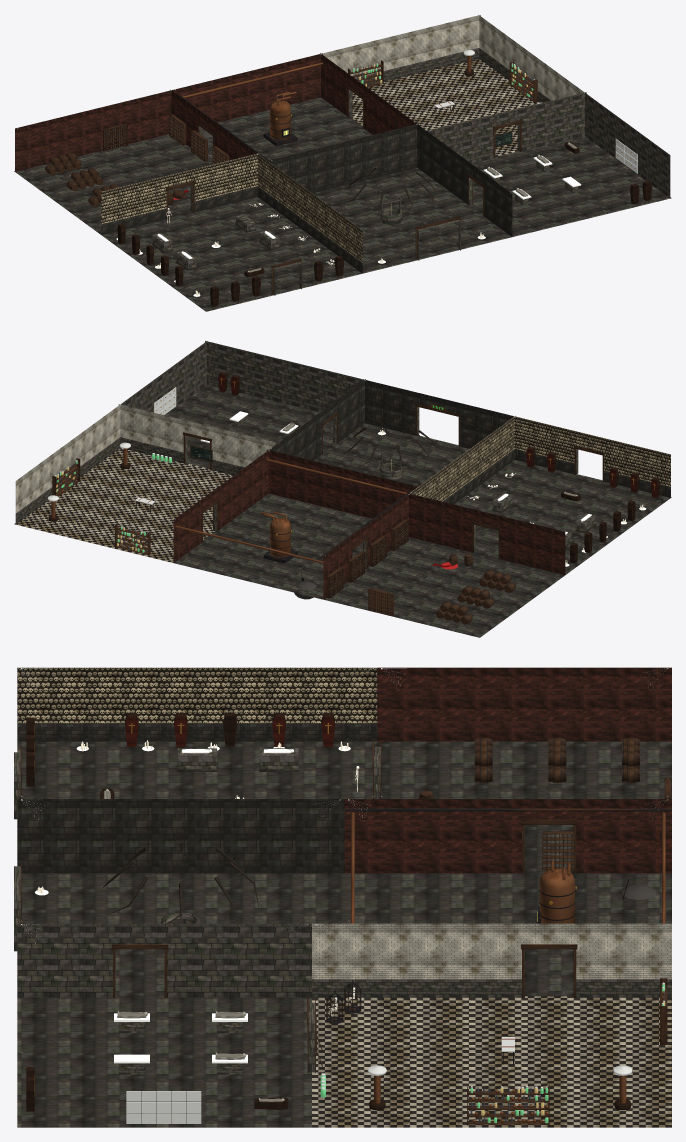
File: house_basement.glb
3 renders of one model, top to bottom at view 1: azimuth 30°, elevation 25°; view 2: azimuth 150°, elevation 25°; view 3: azimuth 270°, elevation 25°, orthographic. The views are drawn at different scales.
Visible parts, largest first — view 1: house_basement; view 2: house_basement; view 3: house_basement.
Part boxes in pixels (x1=…): house_basement: x1=14, y1=15, x2=671, y2=311; house_basement: x1=14, y1=341, x2=671, y2=637; house_basement: x1=14, y1=667, x2=671, y2=1127.
Bounding box in the file's own units: 56 × 6.32 × 40.2.
43 materials, 29 textured.
